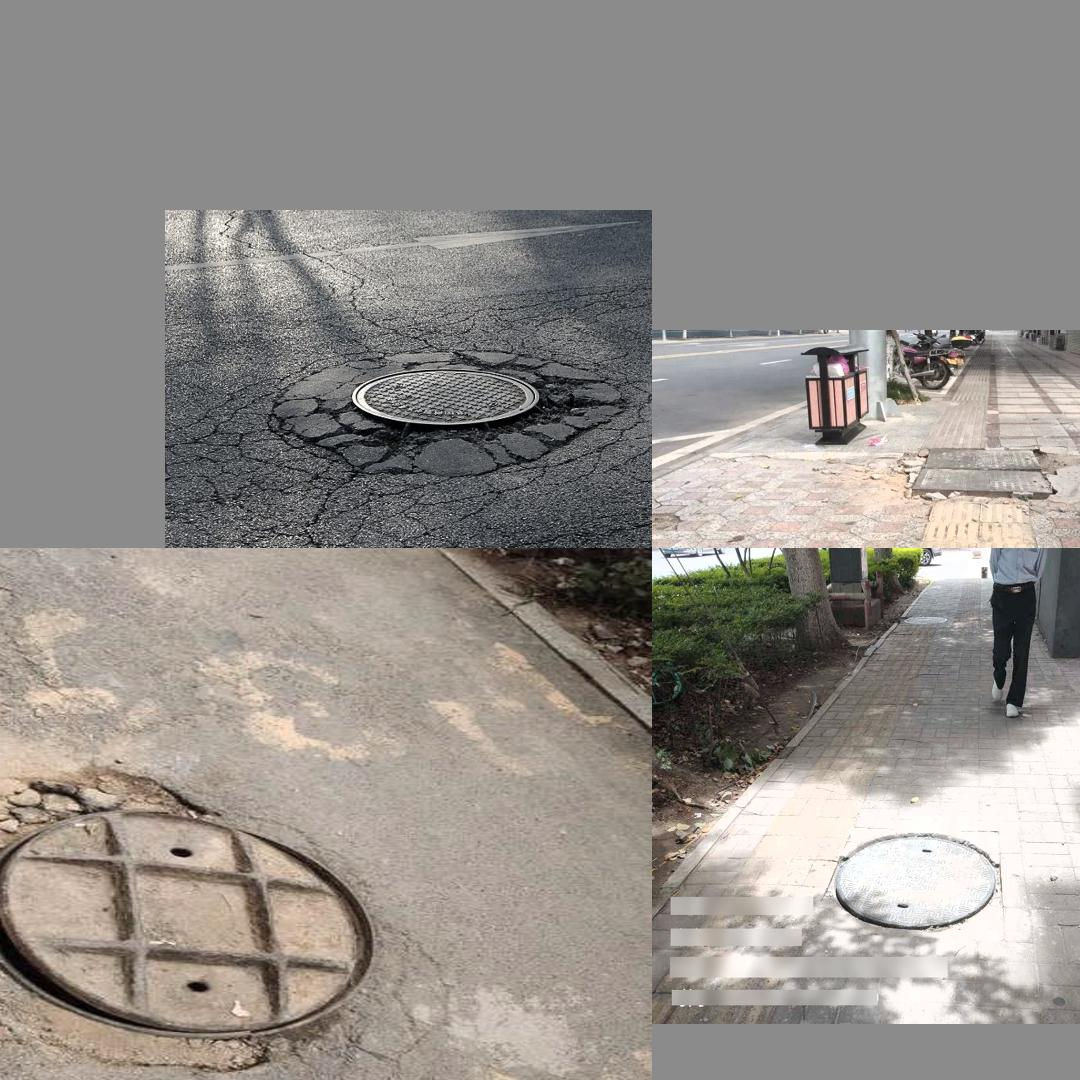circle: (0, 739, 415, 1080), (265, 334, 605, 491), (870, 434, 1080, 523), (830, 832, 1000, 932)
